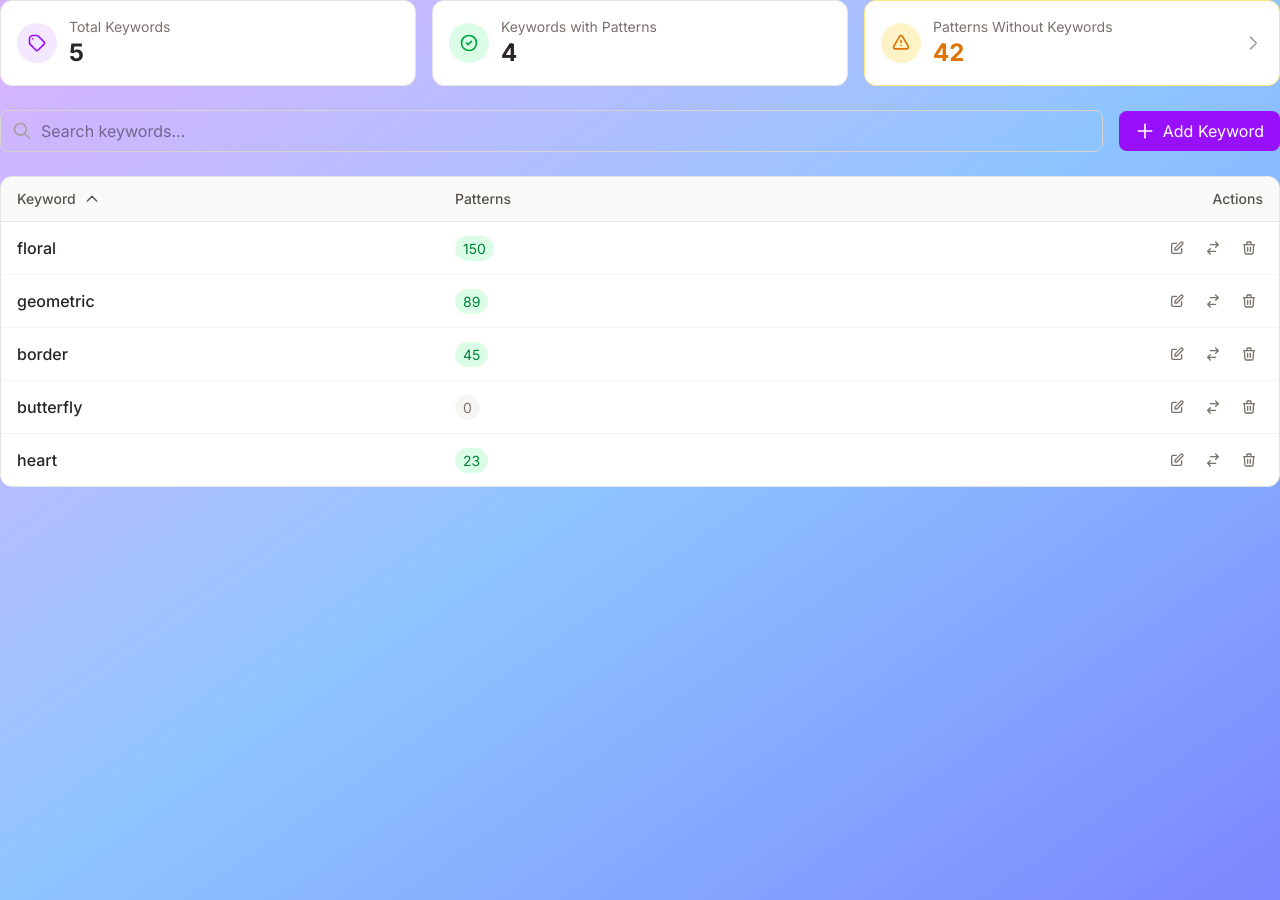
it: KeywordManager › edit keyword modal › opens edit modal when edit button is clicked
Expected: the text "floral" is shown, [17, 238, 56, 258]
Click the button titled "Edit keyword" in the row of "floral": (1177, 248) [1163, 234, 1191, 262]
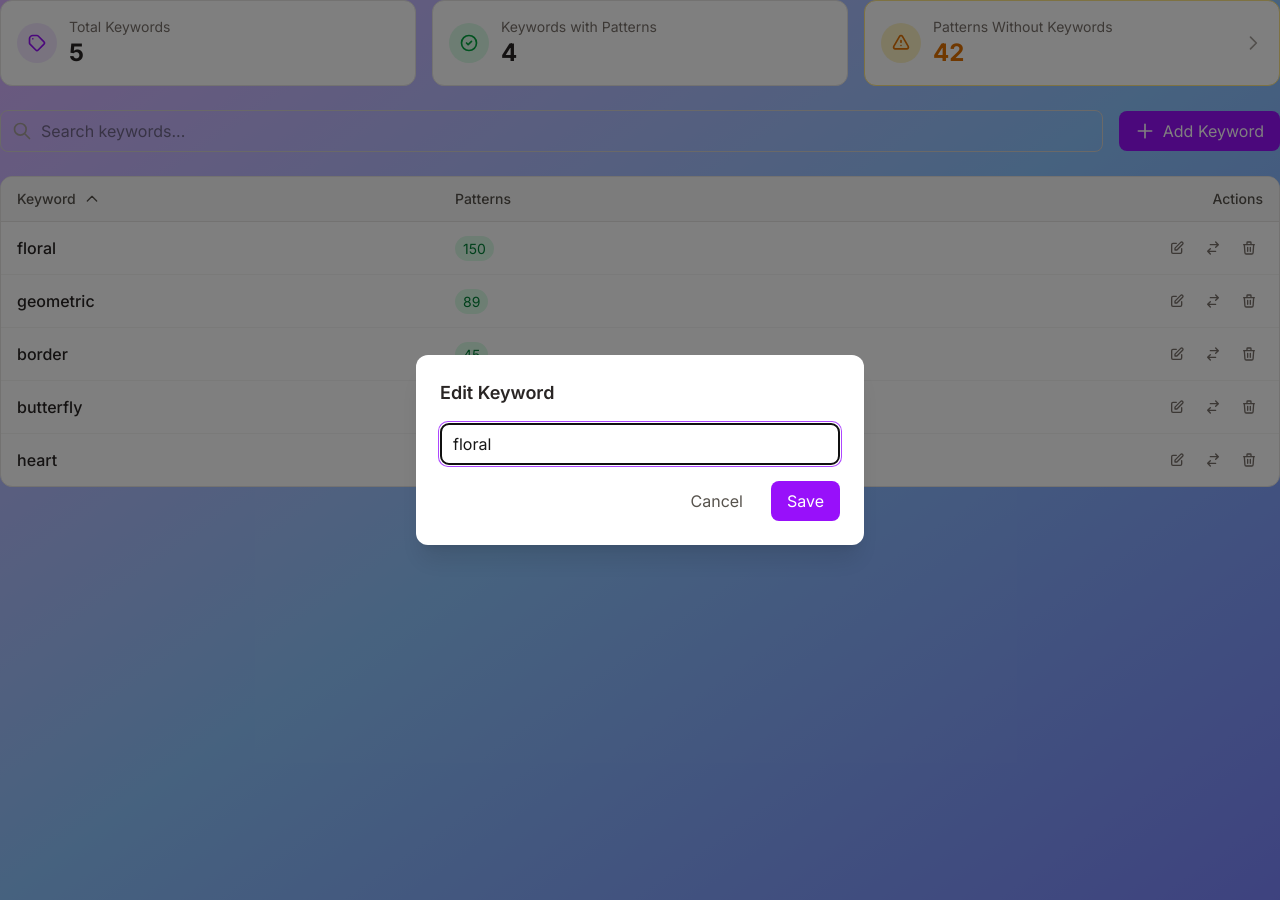
Expected: the heading "Edit Keyword" is shown, [440, 382, 554, 403]
Expected: the field showing "floral" is shown, [440, 423, 840, 465]
